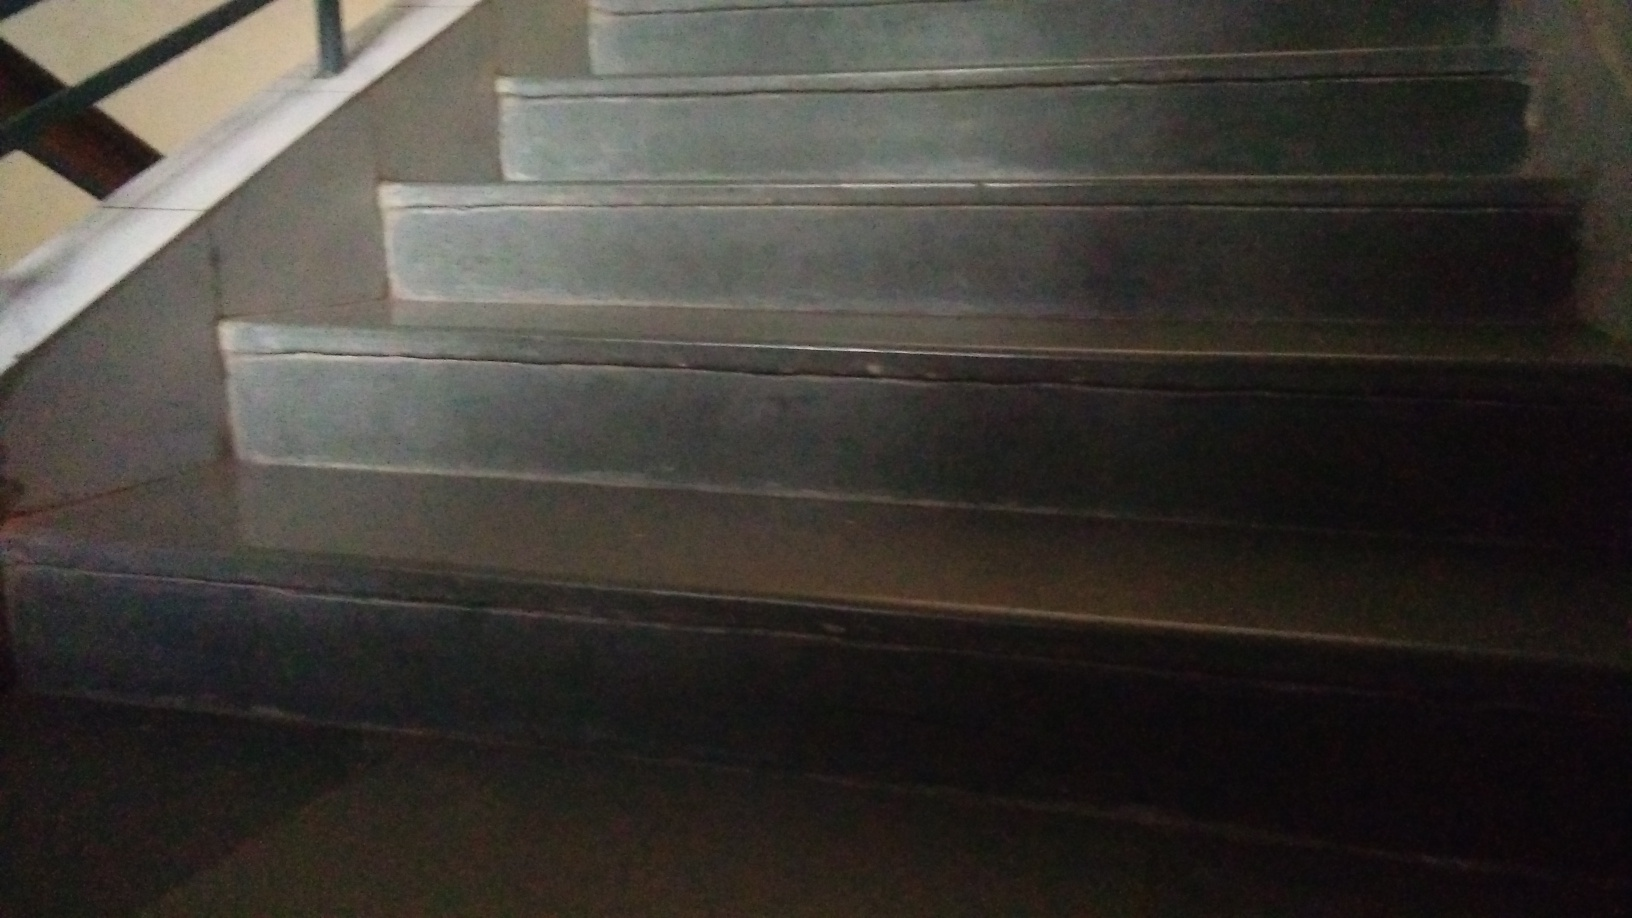stairs_up: (11, 9, 1632, 824)
